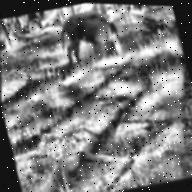boar: (51, 2, 136, 73)
